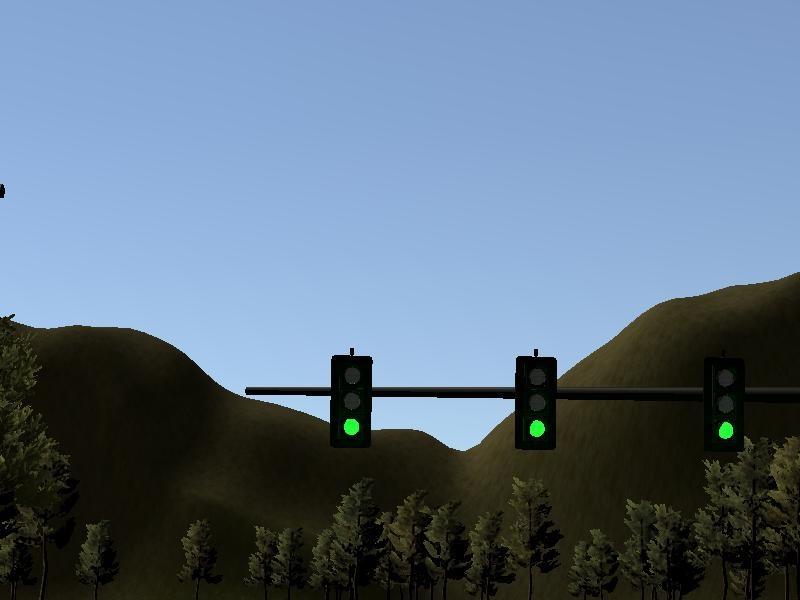green: (322, 348, 380, 445), (509, 348, 561, 453), (704, 352, 748, 446)
